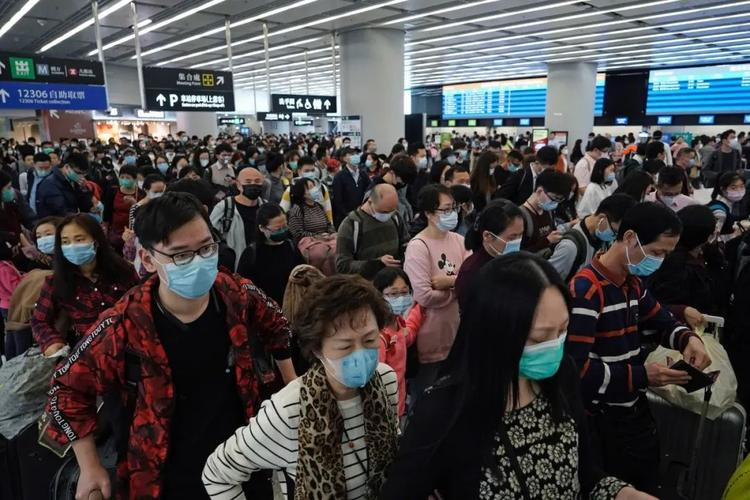mask: (509, 277, 580, 382), (153, 208, 230, 299), (315, 305, 380, 392), (622, 214, 683, 279), (53, 219, 100, 266)
